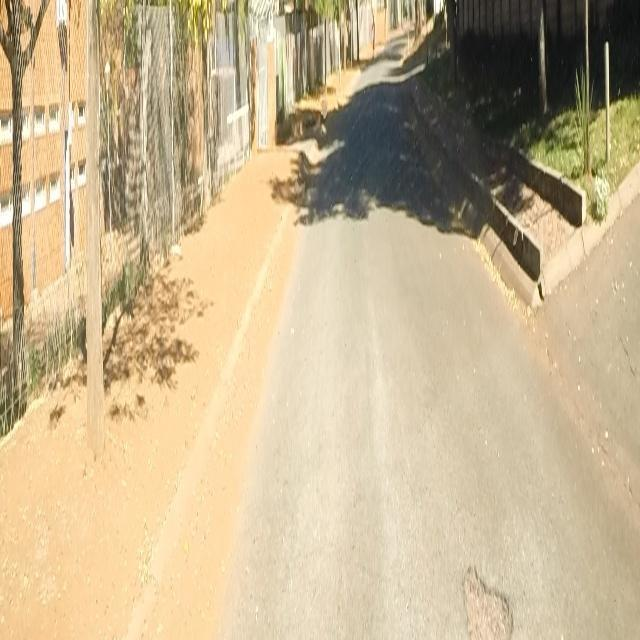pothole: (456, 561, 519, 640)
